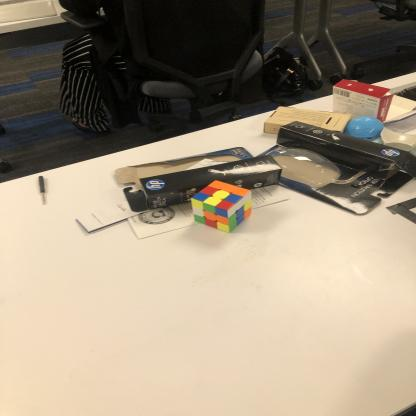UnsolvedCube: (190, 179, 251, 234)
